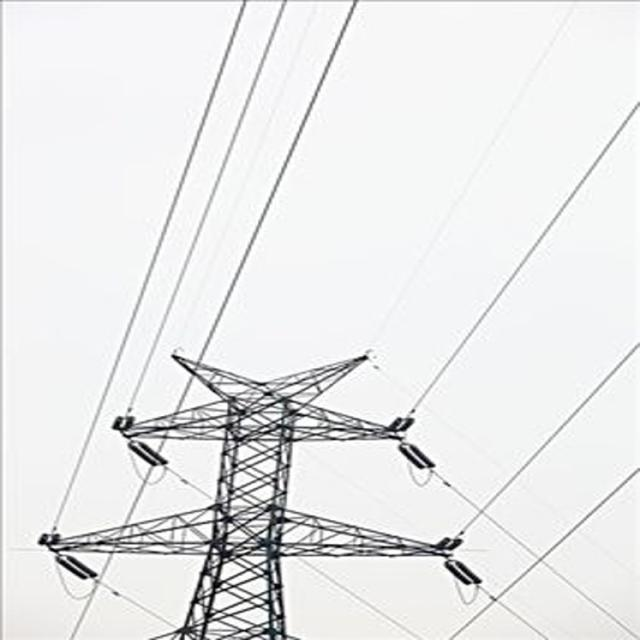non-critical vegetation: (37, 351, 466, 635)
